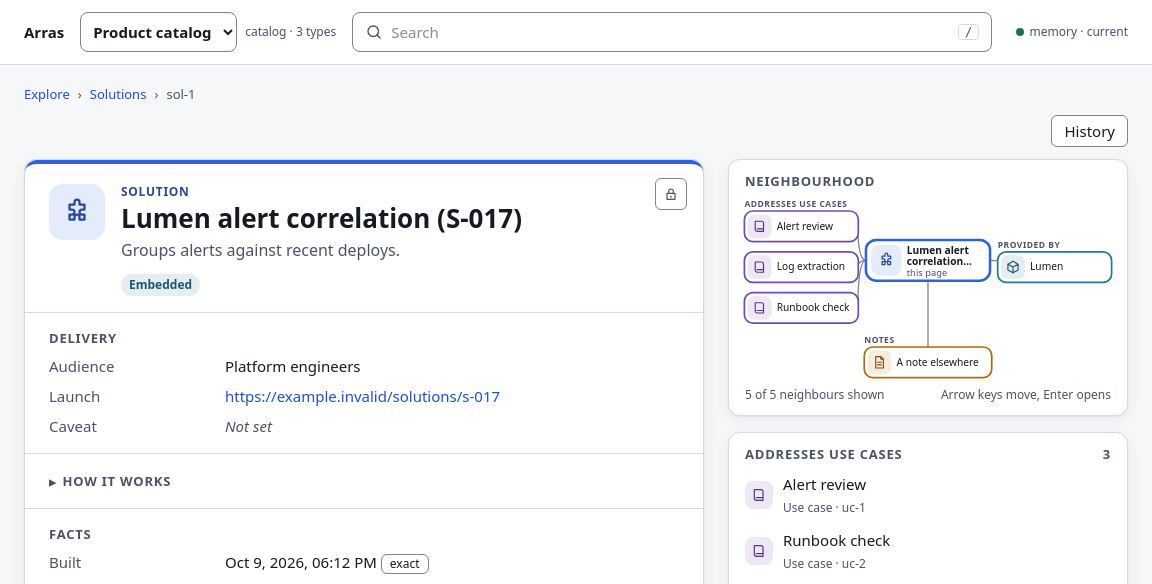
Test: editing a property in place › cancels with the button or Escape, writing nothing; and will not save an empty value
Click the button named "Edit mode" at (671, 194), box [655, 178, 687, 210]
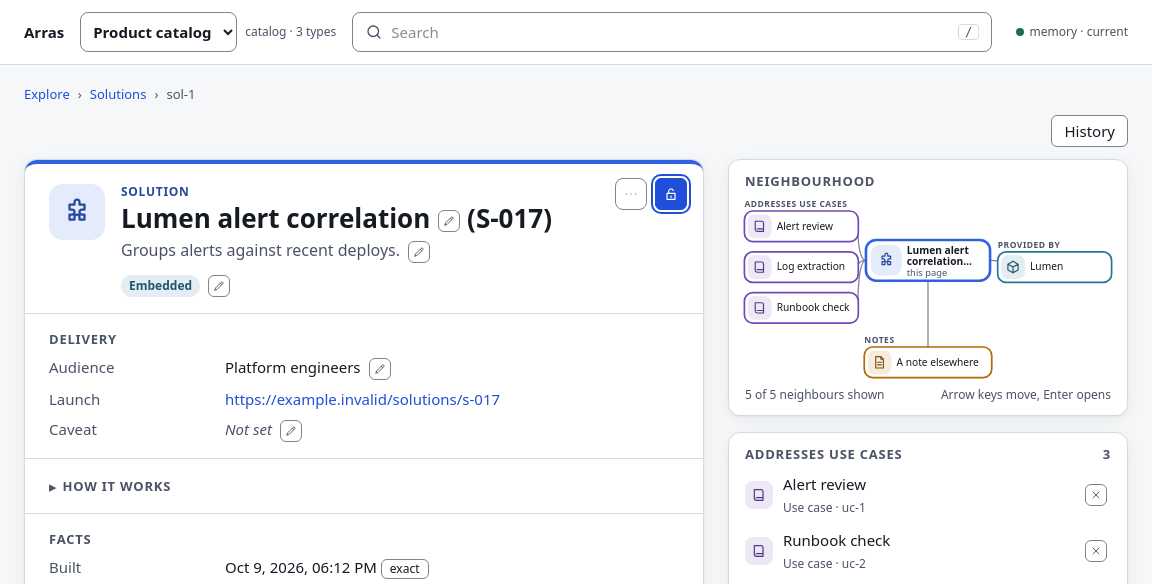
Click the button named "Edit Audience" at (380, 369), box [368, 358, 390, 380]
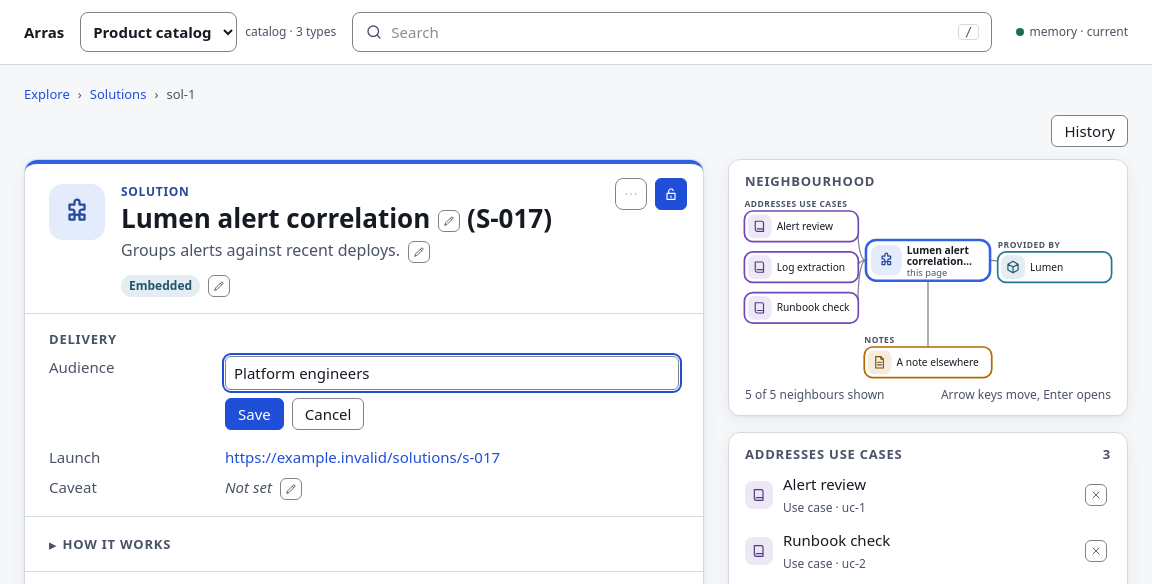
Clear the field named "Audience" at (452, 373), box [225, 356, 679, 390]
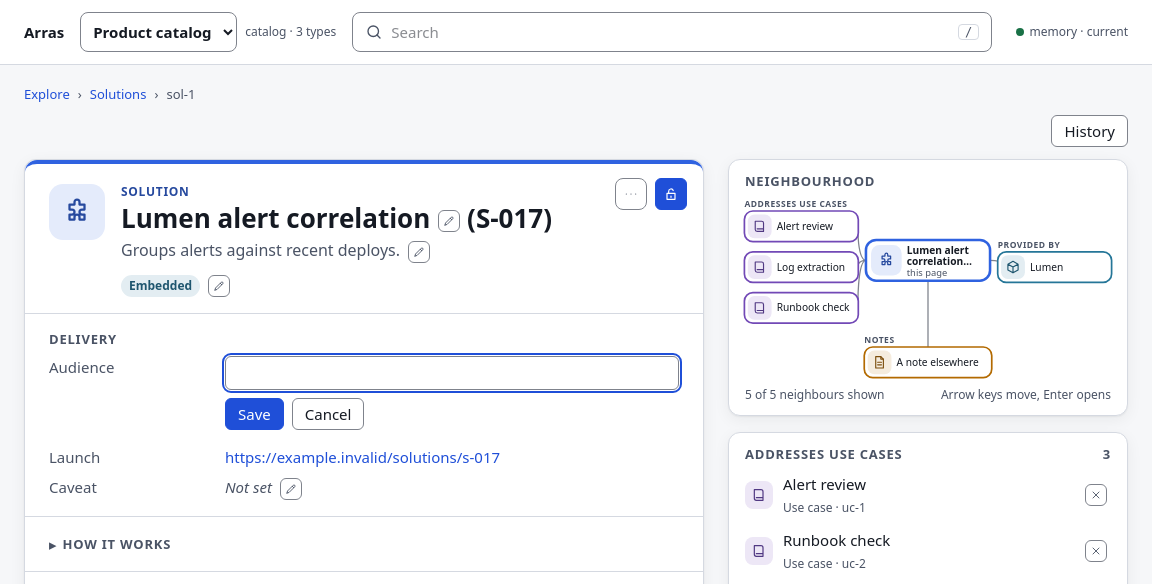
Click the button "Save" at (254, 414), box [225, 398, 284, 430]
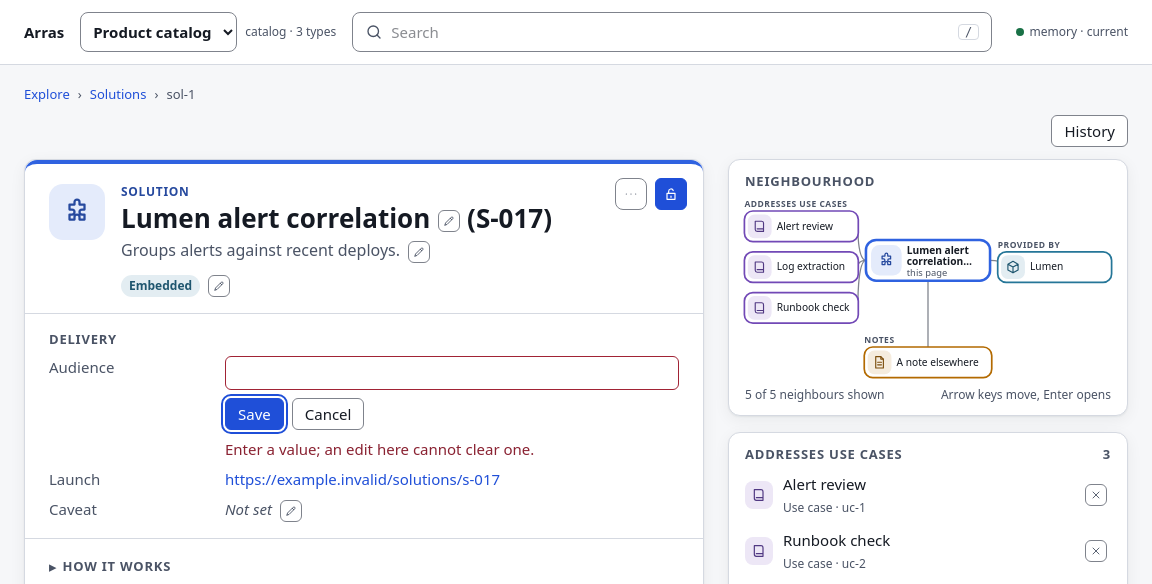
expect the message shows "Enter a value": met, box [225, 439, 534, 459]
Press Escape
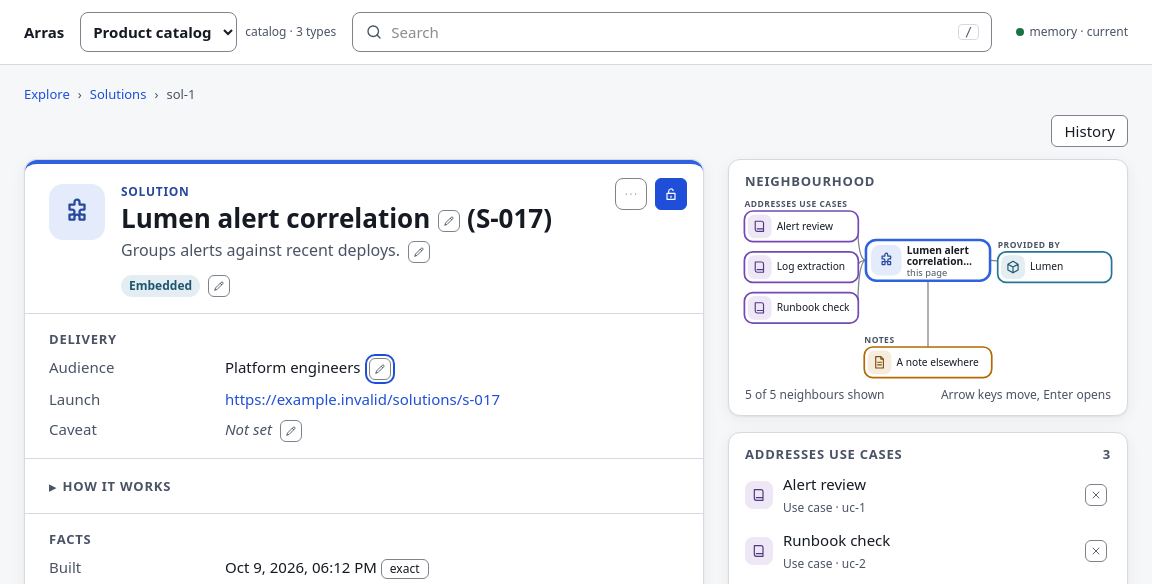
expect the text "Platform engineers" is shown: met, box [225, 357, 390, 377]
